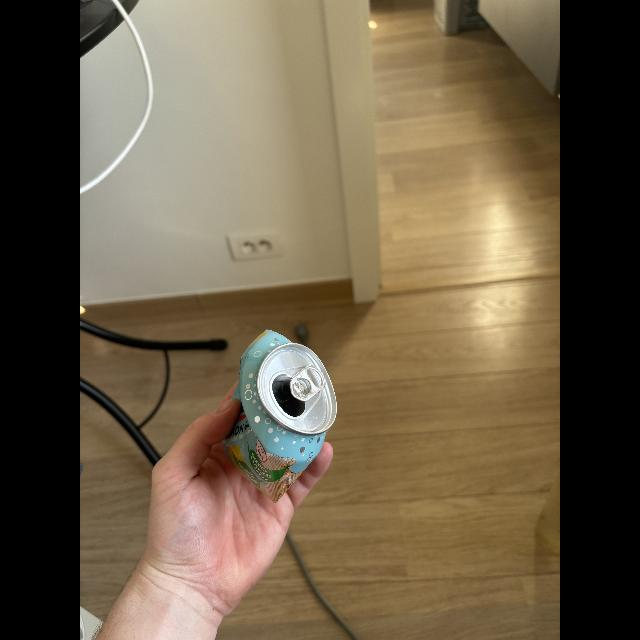Metal: (224, 334, 332, 504)
